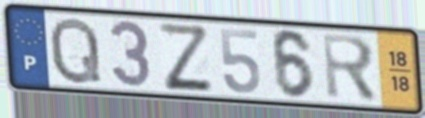3: (106, 17, 153, 91)
5: (217, 26, 263, 96)
6: (271, 28, 318, 102)
Q: (48, 14, 104, 87)
R: (320, 31, 381, 106)
Z: (155, 19, 216, 92)
